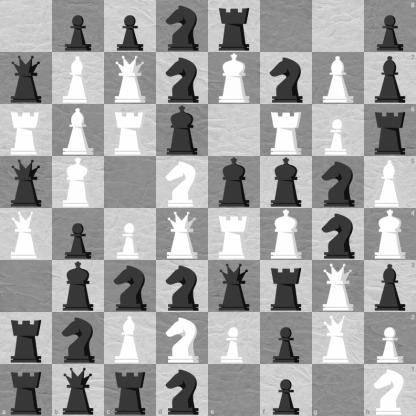B: (364, 156, 416, 209), (53, 53, 104, 104), (53, 105, 104, 156), (105, 313, 156, 364), (313, 53, 364, 104)
K: (364, 209, 416, 260), (53, 157, 104, 208), (209, 53, 260, 104), (261, 209, 312, 260)
N: (364, 364, 416, 416), (157, 157, 208, 208), (157, 313, 208, 364)
P: (364, 312, 416, 364), (105, 209, 156, 260), (209, 313, 260, 364), (313, 105, 364, 156)
Q: (1, 209, 52, 260), (105, 53, 156, 104), (157, 209, 208, 260), (313, 261, 364, 312), (313, 313, 364, 364)
R: (1, 105, 52, 156), (105, 105, 156, 156), (209, 209, 260, 260), (261, 105, 312, 156)
b: (364, 52, 416, 104), (364, 260, 416, 312)
board: (0, 0, 415, 415)
k: (53, 261, 104, 312), (157, 105, 208, 156), (209, 157, 260, 208), (261, 157, 312, 208)
n: (156, 364, 209, 416), (53, 313, 104, 364), (105, 261, 156, 312), (157, 1, 208, 52), (157, 53, 208, 104), (157, 261, 208, 312), (261, 53, 312, 104), (313, 157, 364, 208), (313, 209, 364, 260)
p: (260, 364, 312, 416), (364, 0, 416, 52), (53, 1, 104, 52), (53, 209, 104, 260), (105, 1, 156, 52), (261, 313, 312, 364)
q: (52, 364, 104, 416), (1, 53, 52, 104), (1, 157, 52, 208), (209, 261, 260, 312)
r: (0, 364, 52, 416), (104, 364, 156, 416), (364, 104, 416, 156), (1, 313, 52, 364), (209, 1, 260, 52), (261, 261, 312, 312)
